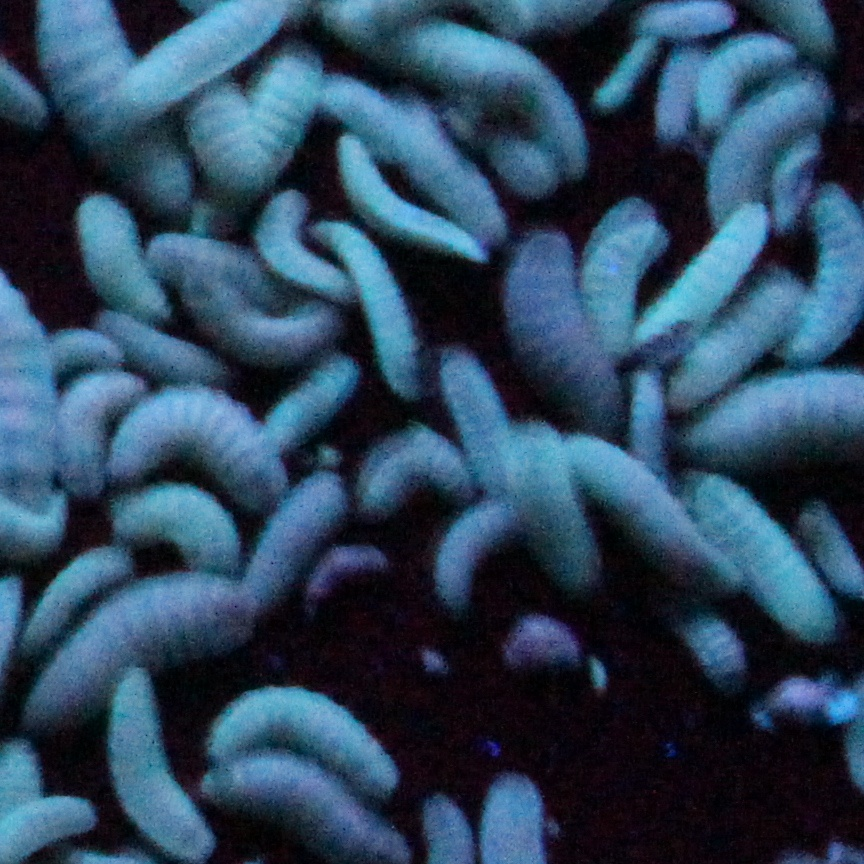larve: (665, 455, 854, 648), (36, 578, 264, 722), (488, 223, 624, 425), (632, 191, 775, 375), (304, 208, 439, 402), (99, 378, 296, 508), (210, 676, 413, 798), (106, 665, 220, 862), (502, 413, 604, 599), (336, 141, 467, 256), (68, 189, 176, 327), (348, 411, 471, 513), (417, 491, 512, 615), (98, 487, 232, 573), (250, 181, 337, 295), (247, 52, 325, 156)
